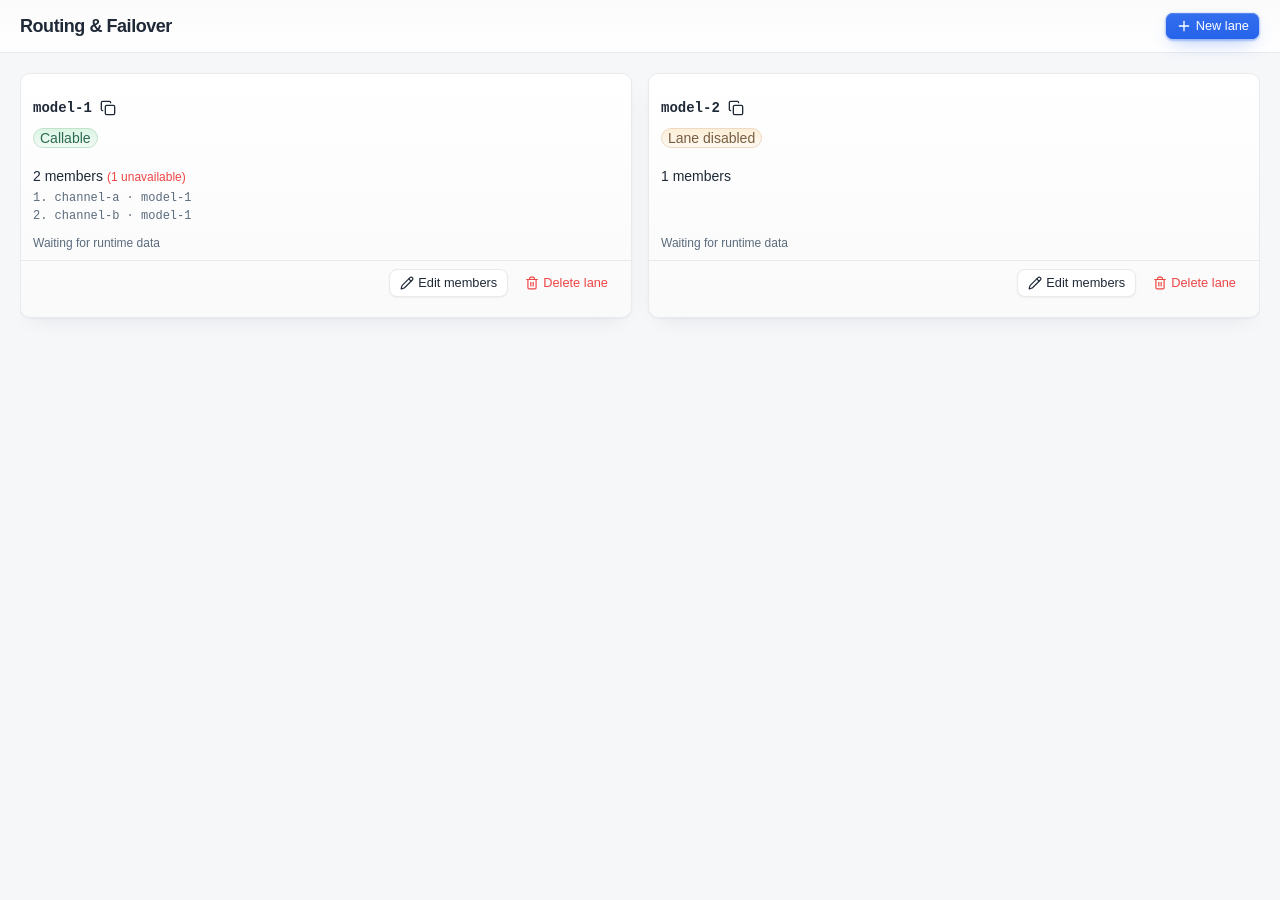
路由与故障切换页 › 卡片「编辑成员链」打开两栏编排器并载入该车道成员
The image size is (1280, 900).
Click the button "Edit members" below "(1 unavailable)". click: (449, 283)
box: [389, 269, 508, 297]
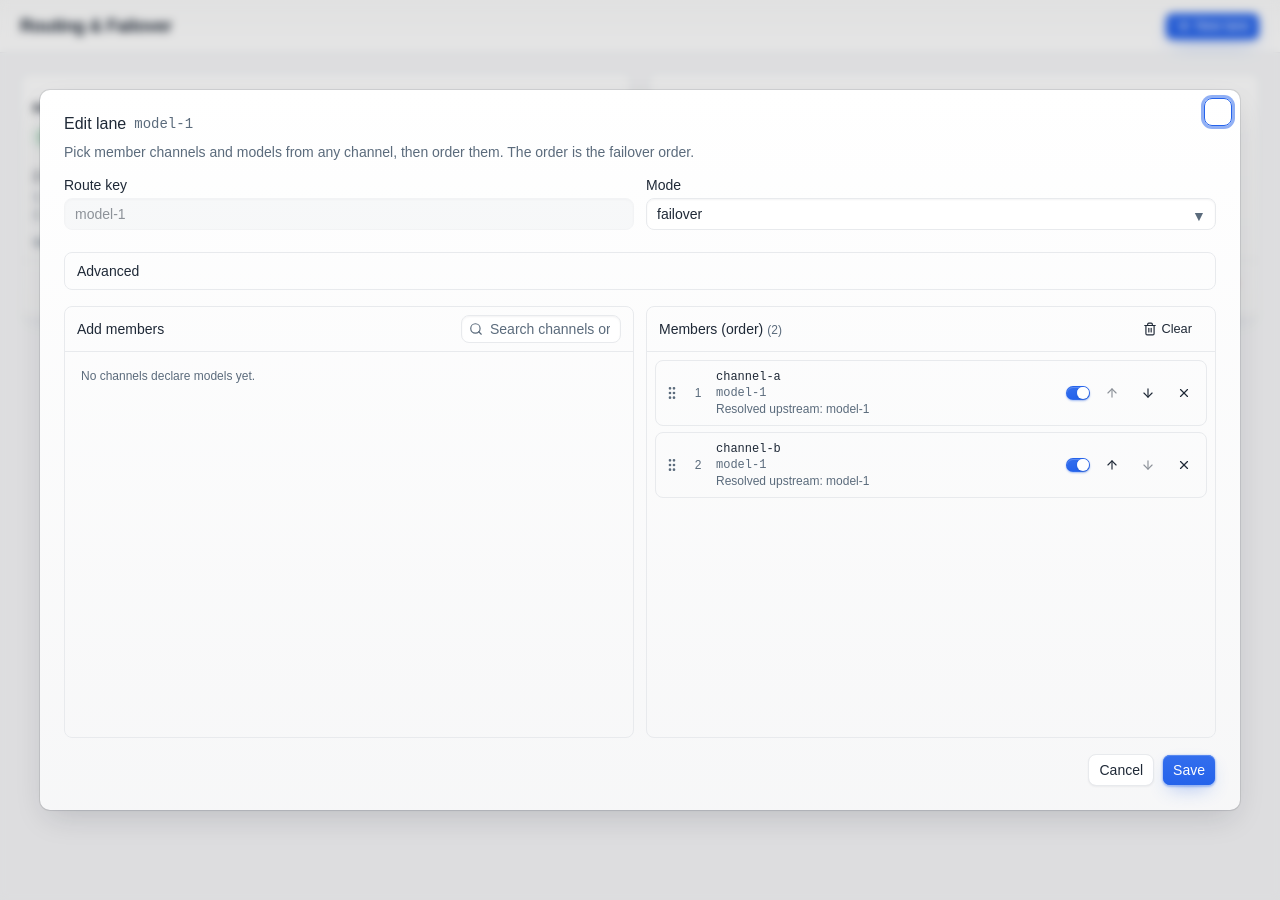
Now the dialog is shown
Now the text "channel-a" is shown, box [716, 370, 781, 384]
Now the text "channel-b" is shown, box [716, 442, 781, 456]
